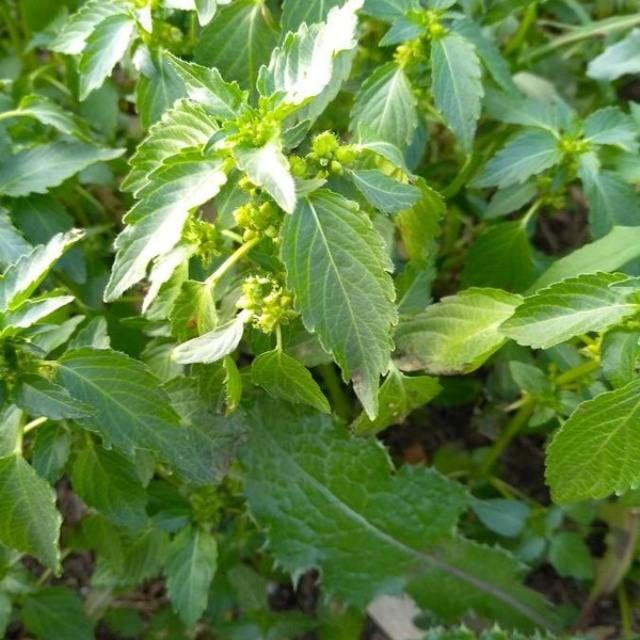obstacle: (94, 44, 432, 419), (12, 227, 177, 563), (461, 238, 620, 498), (387, 9, 615, 190)
